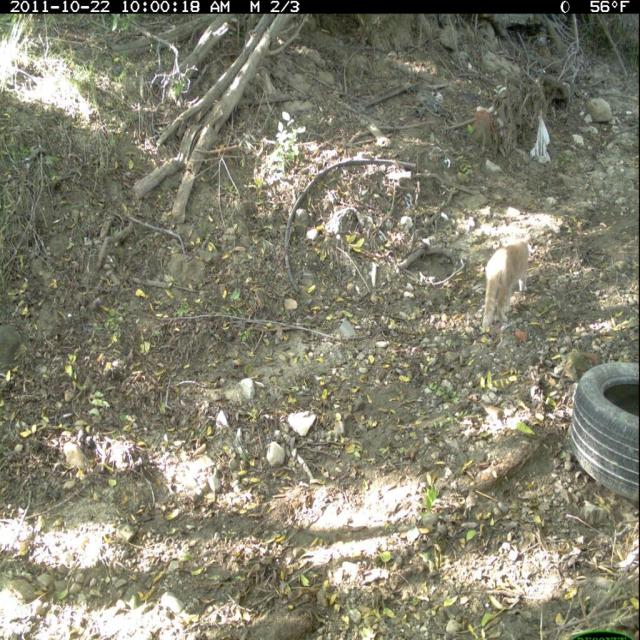cat: (483, 230, 532, 340)
